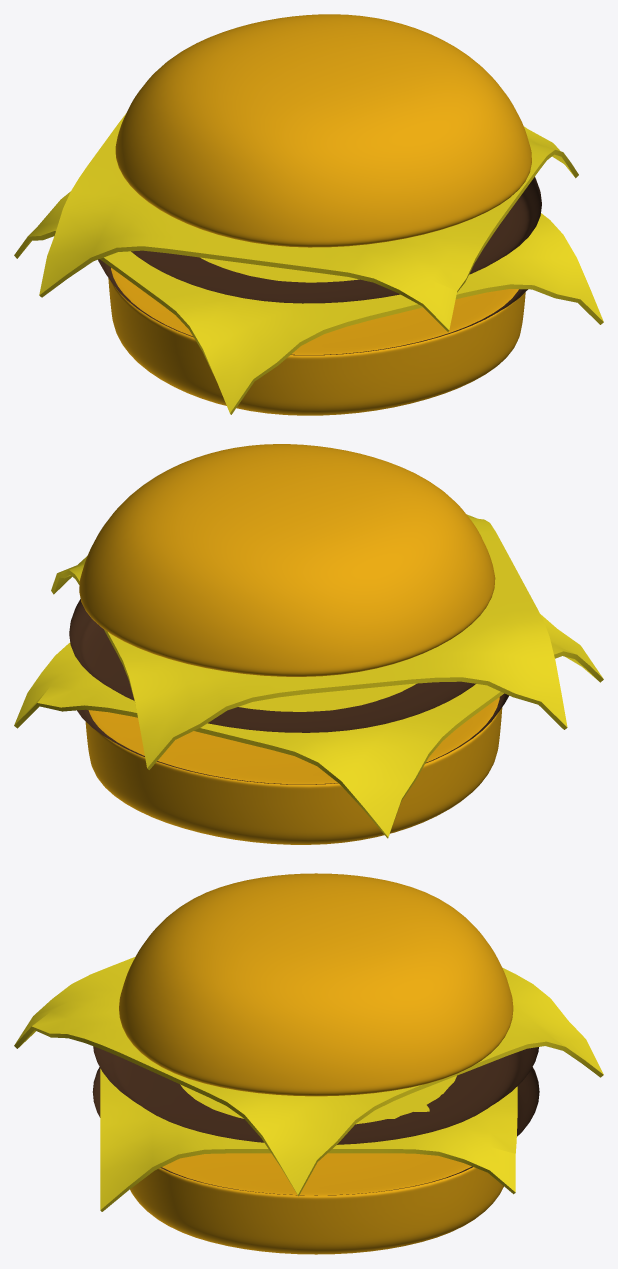
File: cangreburger.glb
The picture shows the model from 3 angles, top to bottom: view 1: azimuth 30°, elevation 25°; view 2: azimuth 150°, elevation 25°; view 3: azimuth 270°, elevation 25°; orthographic projection. The views are drawn at different scales.
Parts seen in each view (by area): view 1: Cube.002, Cube.001, Plane.001, Plane, Cube.003; view 2: Cube.002, Cube.001, Plane.001, Plane, Cube.003; view 3: Cube.002, Cube.001, Plane.001, Plane, Cube.003.
Boxes of the visible parts, box(x1,y1,x2,y2) form: Cube.002: box(115, 14, 531, 247); Cube.001: box(108, 268, 525, 415); Plane.001: box(39, 113, 578, 331); Plane: box(14, 191, 603, 414); Cube.003: box(98, 177, 541, 355); Cube.002: box(79, 444, 495, 676); Cube.001: box(85, 697, 502, 844); Plane.001: box(51, 514, 567, 769); Plane: box(14, 614, 603, 838); Cube.003: box(69, 599, 508, 784); Cube.002: box(119, 873, 513, 1096); Cube.001: box(130, 1153, 503, 1254); Plane.001: box(14, 956, 603, 1196); Plane: box(100, 1068, 517, 1211); Cube.003: box(92, 1046, 539, 1195).
Size of the model in its own units: 13.52 by 7.16 by 13.52.
